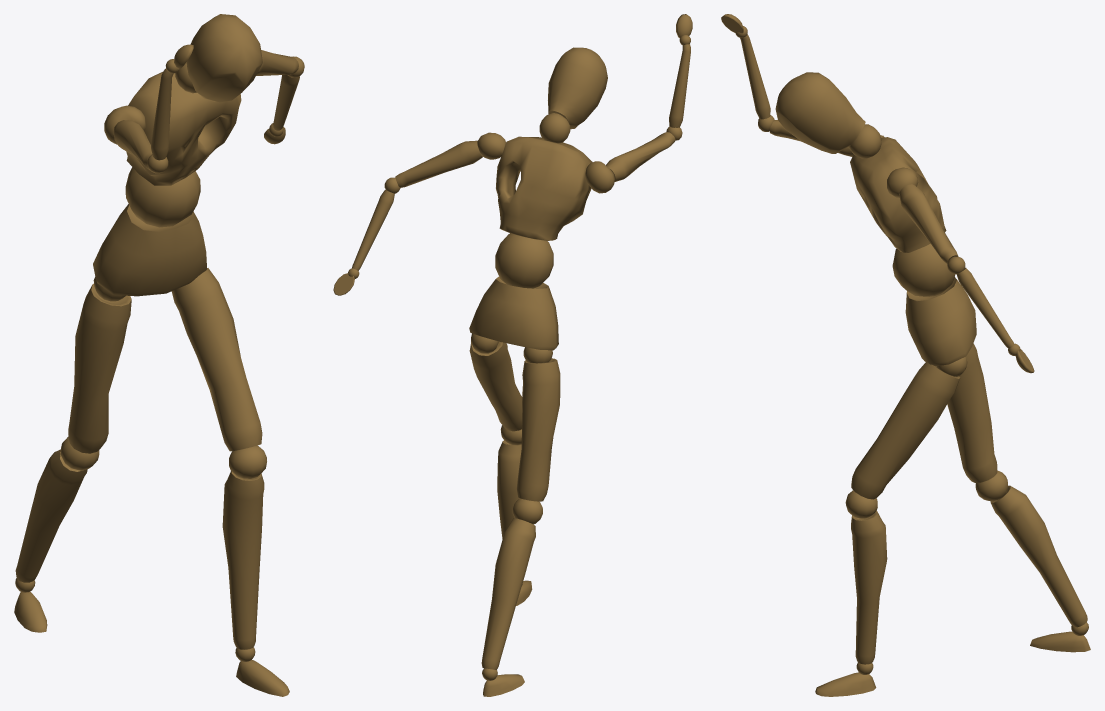
File: maniqui_pose10.fbx
3 renders of one model, left to right at view 1: azimuth 30°, elevation 25°; view 2: azimuth 150°, elevation 25°; view 3: azimuth 270°, elevation 25°, orthographic. The views are drawn at different scales.
Parts seen in each view (by area): view 1: dummy_obj.003; view 2: dummy_obj.003; view 3: dummy_obj.003.
Boxes of the visible parts, x1,y1,x2,y2 form: dummy_obj.003: [14, 14, 304, 696]; dummy_obj.003: [333, 14, 692, 696]; dummy_obj.003: [721, 14, 1090, 696].
Size of the model in its own units: 68.59 by 164 by 89.11.
